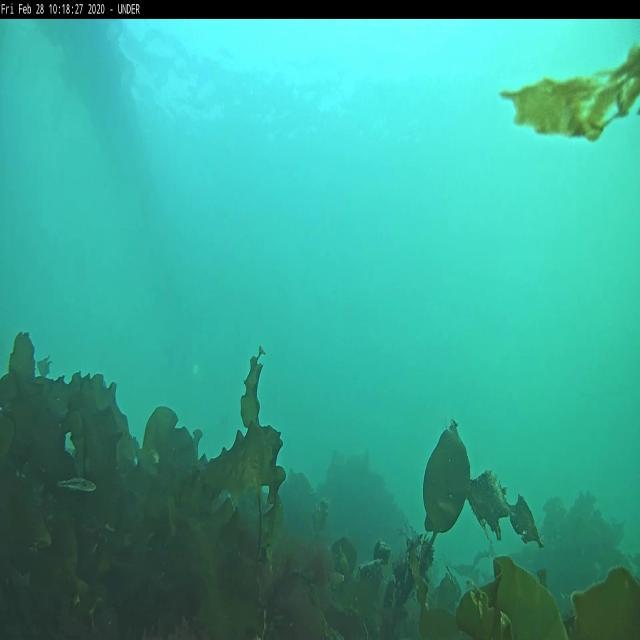fish: (56, 476, 98, 495)
